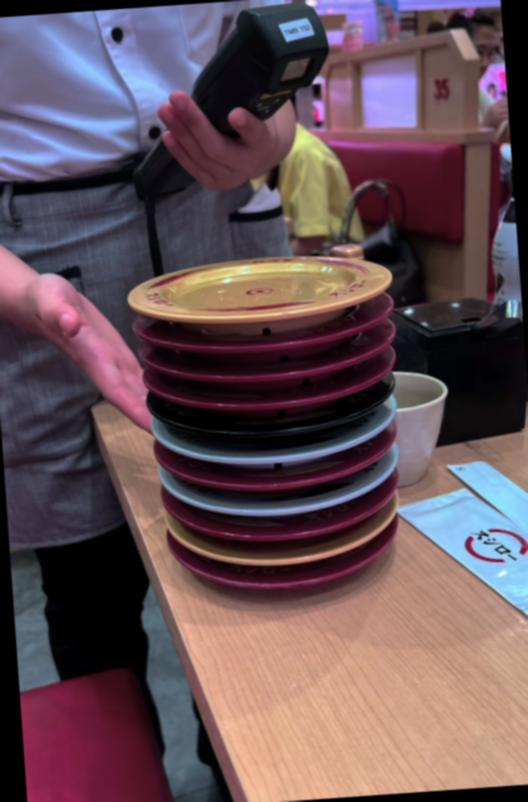Janback: (170, 412, 384, 452)
Jangold: (132, 248, 388, 321), (200, 537, 354, 572)
Janred: (168, 350, 389, 390), (155, 326, 388, 360), (188, 462, 379, 503), (199, 511, 379, 547), (177, 382, 372, 415), (216, 562, 382, 598)
Janwhite: (185, 490, 366, 523), (190, 441, 361, 469)
